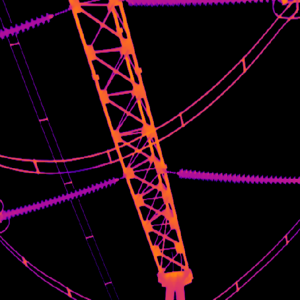insulator: (0, 174, 119, 222), (176, 166, 300, 185), (0, 8, 52, 40), (124, 0, 271, 8)
